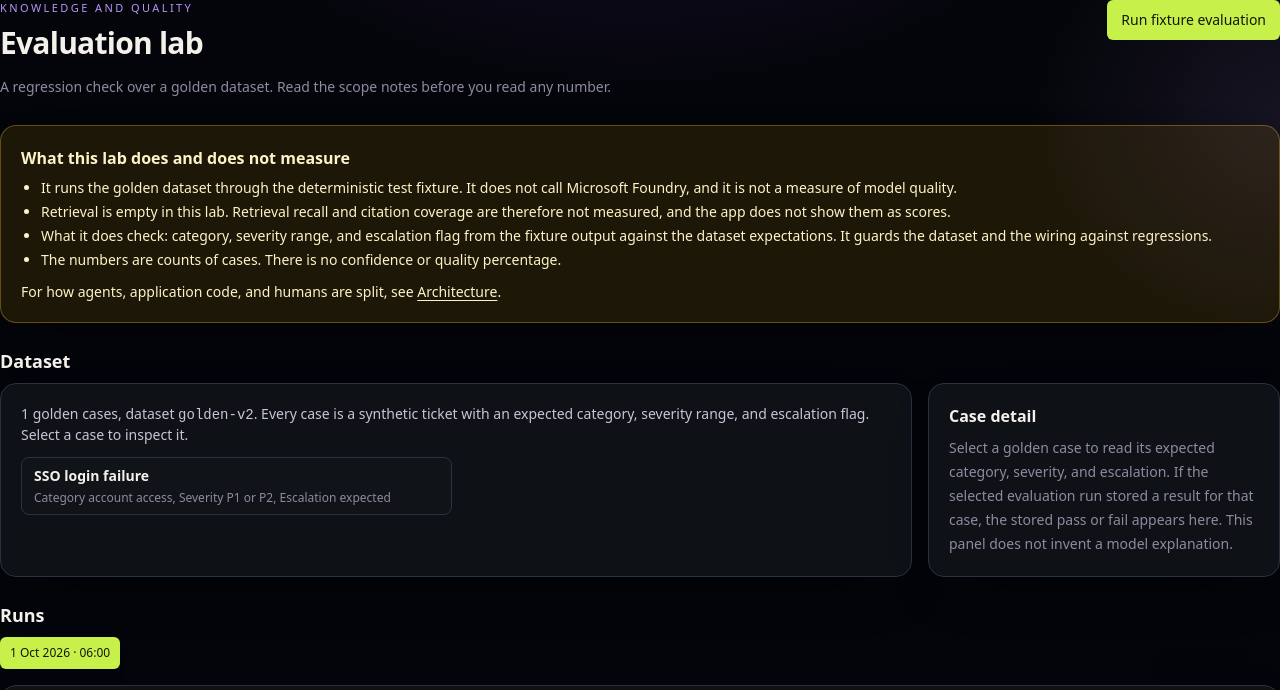
Test case: EvaluationsPage › opens a dataset case and shows the stored result for that case
Click the button "SSO login failure": point(236, 486) [21,456,452,514]
(page scrolled)
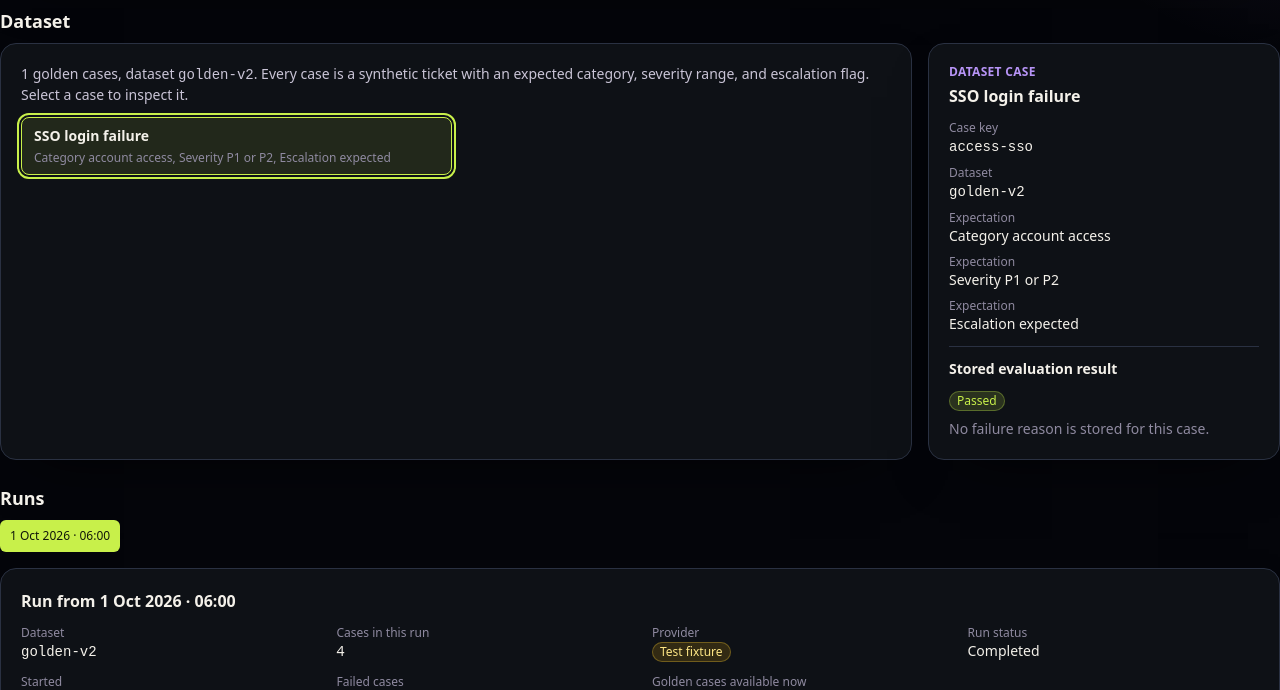
Result: the heading "SSO login failure" is shown at [949,84,1080,106]
Result: the text "access-sso" is shown at [949,138,1033,154]
Result: the text "golden-v2" below "Case key" is shown at [949,184,1025,200]
